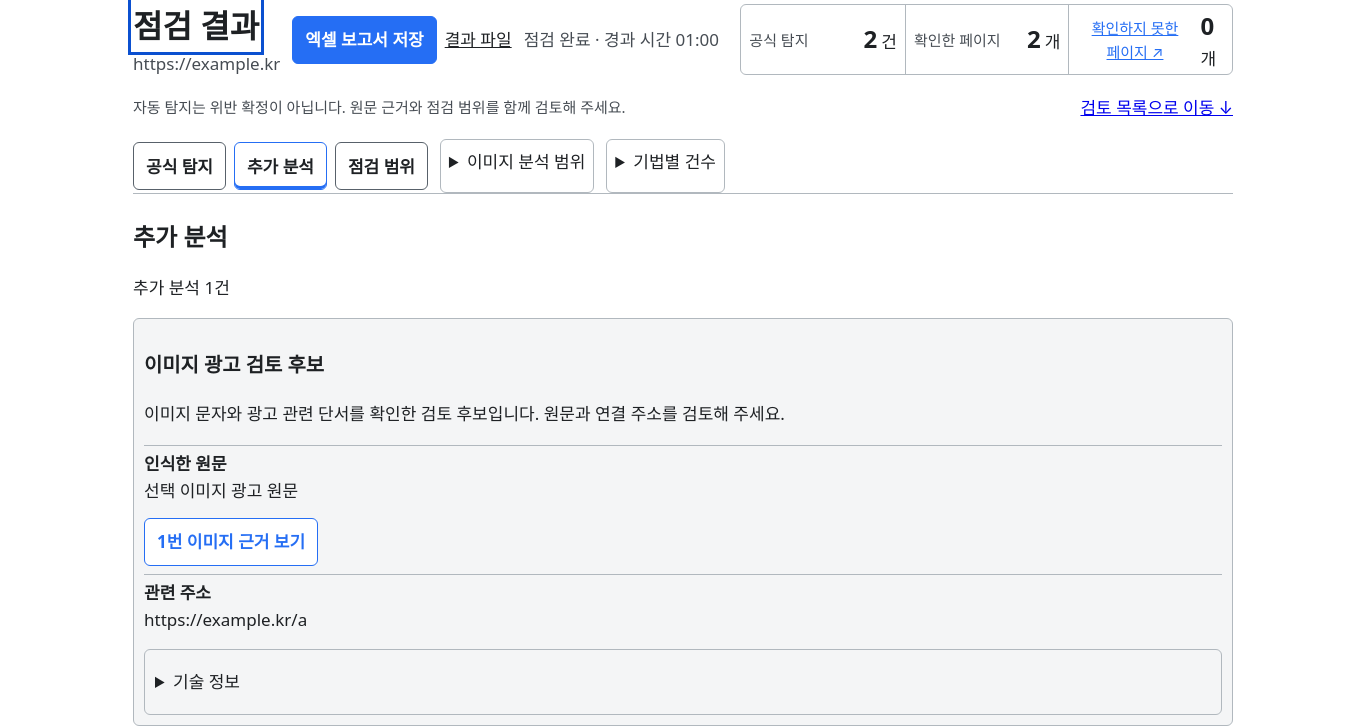
Test: operator evidence read recovery › recovers selected image evidence without refreshing the other analysis page or official list
The image size is (1366, 728).
Step 1. Click the button "1번 이미지 근거 보기" → click(231, 542), box x1=144 y1=518 x2=318 y2=566
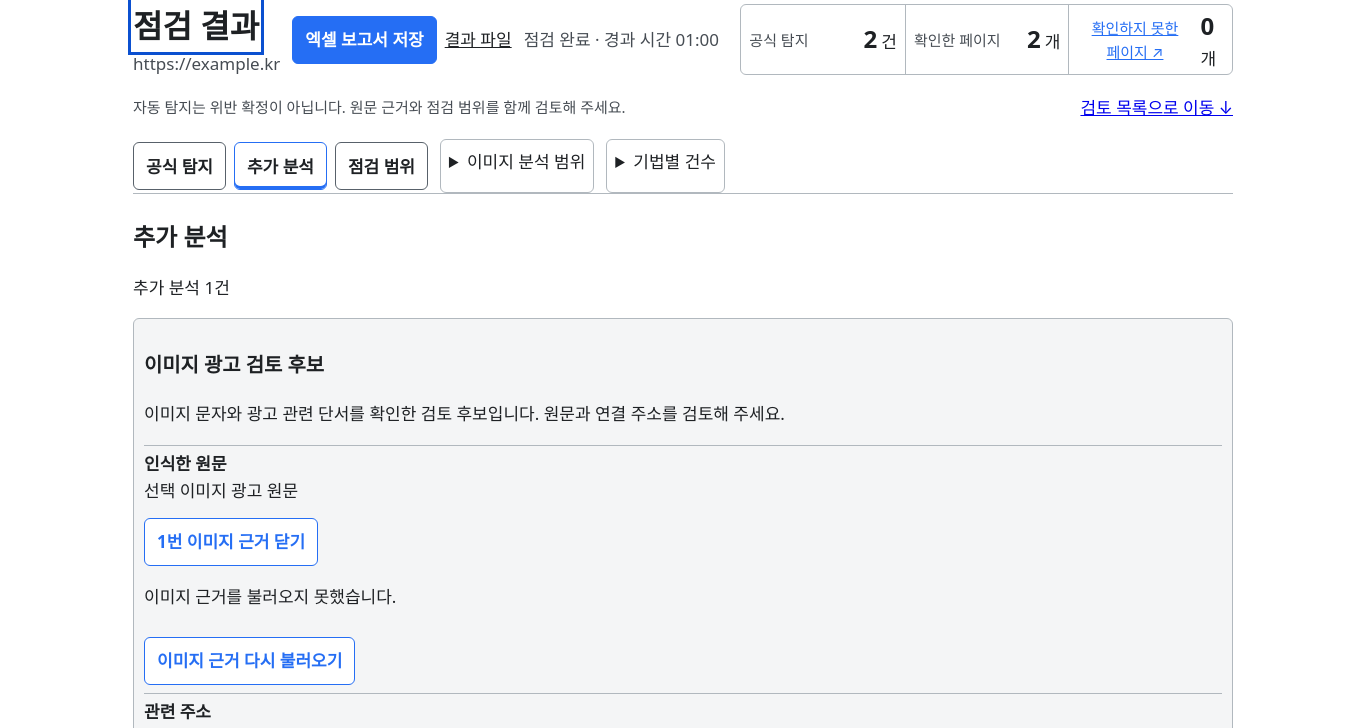
Expected: the message "이미지 근거를 불러오지 못했습니다." is shown, x1=144 y1=585 x2=396 y2=608
Step 2. Click the button "이미지 근거 다시 불러오기" → click(250, 661), box x1=144 y1=637 x2=355 y2=685
(page scrolled)
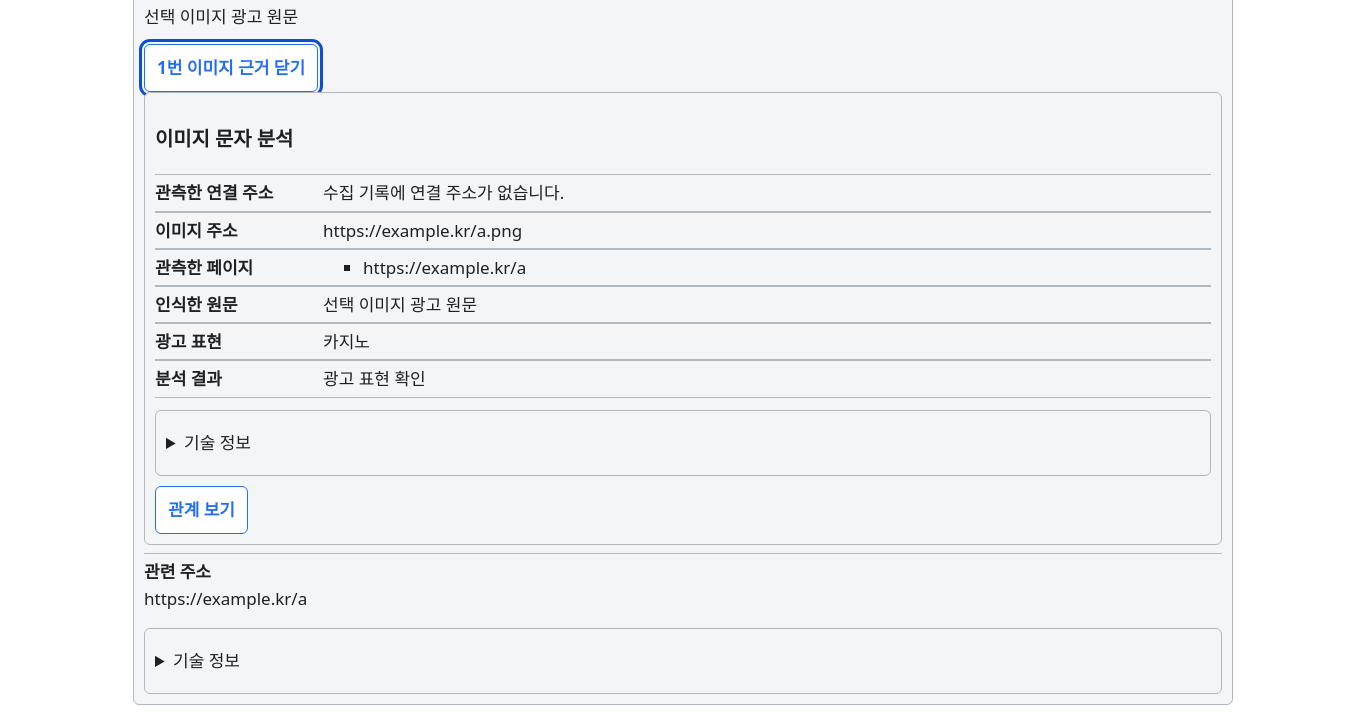
Expected: the text "광고 표현 확인" is shown, x1=323 y1=367 x2=426 y2=390
